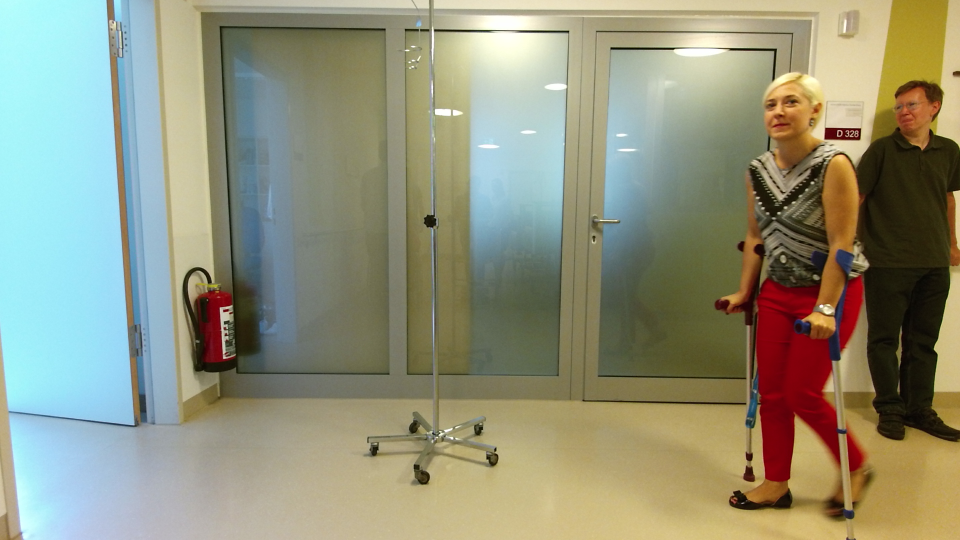crutches: (709, 69, 873, 539)
